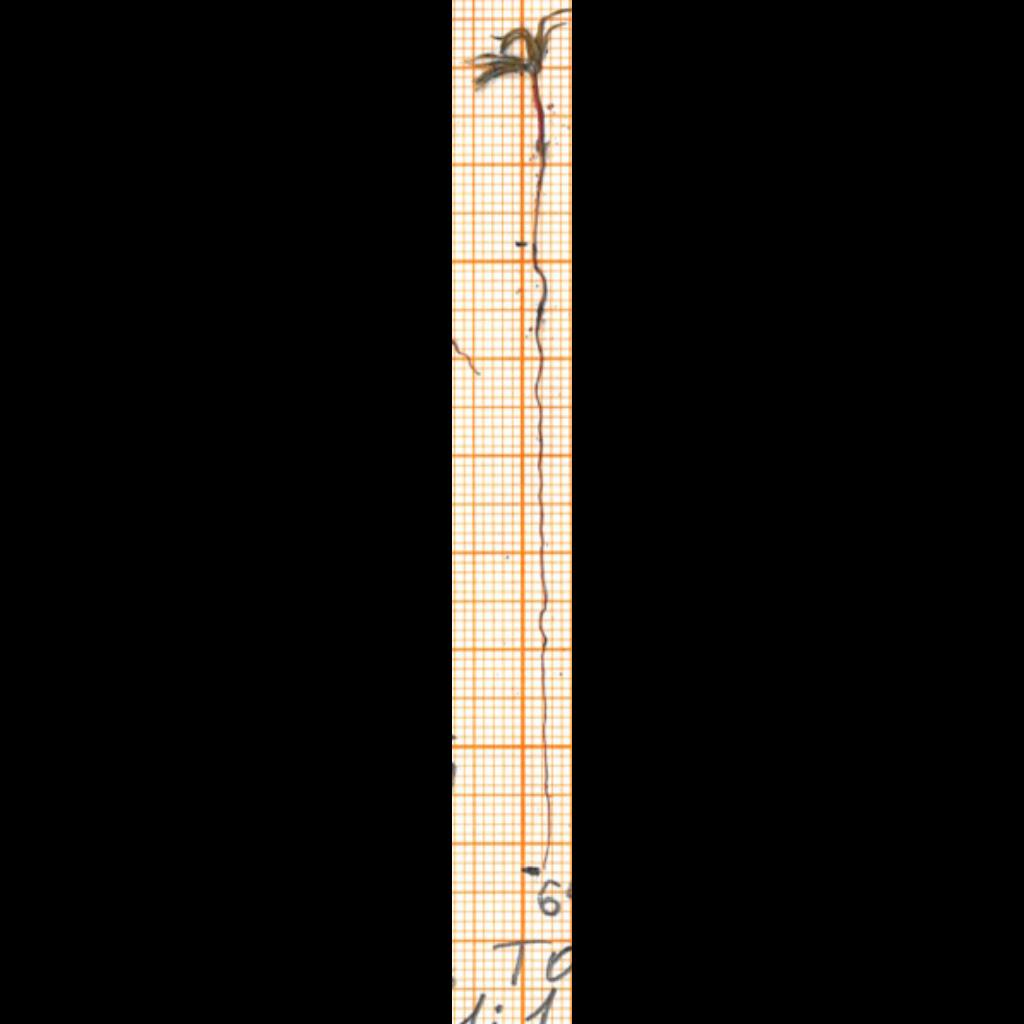flowerPinus: (475, 16, 565, 89)
rootPinus: (533, 247, 551, 869)
stemPinus: (533, 76, 544, 253)
